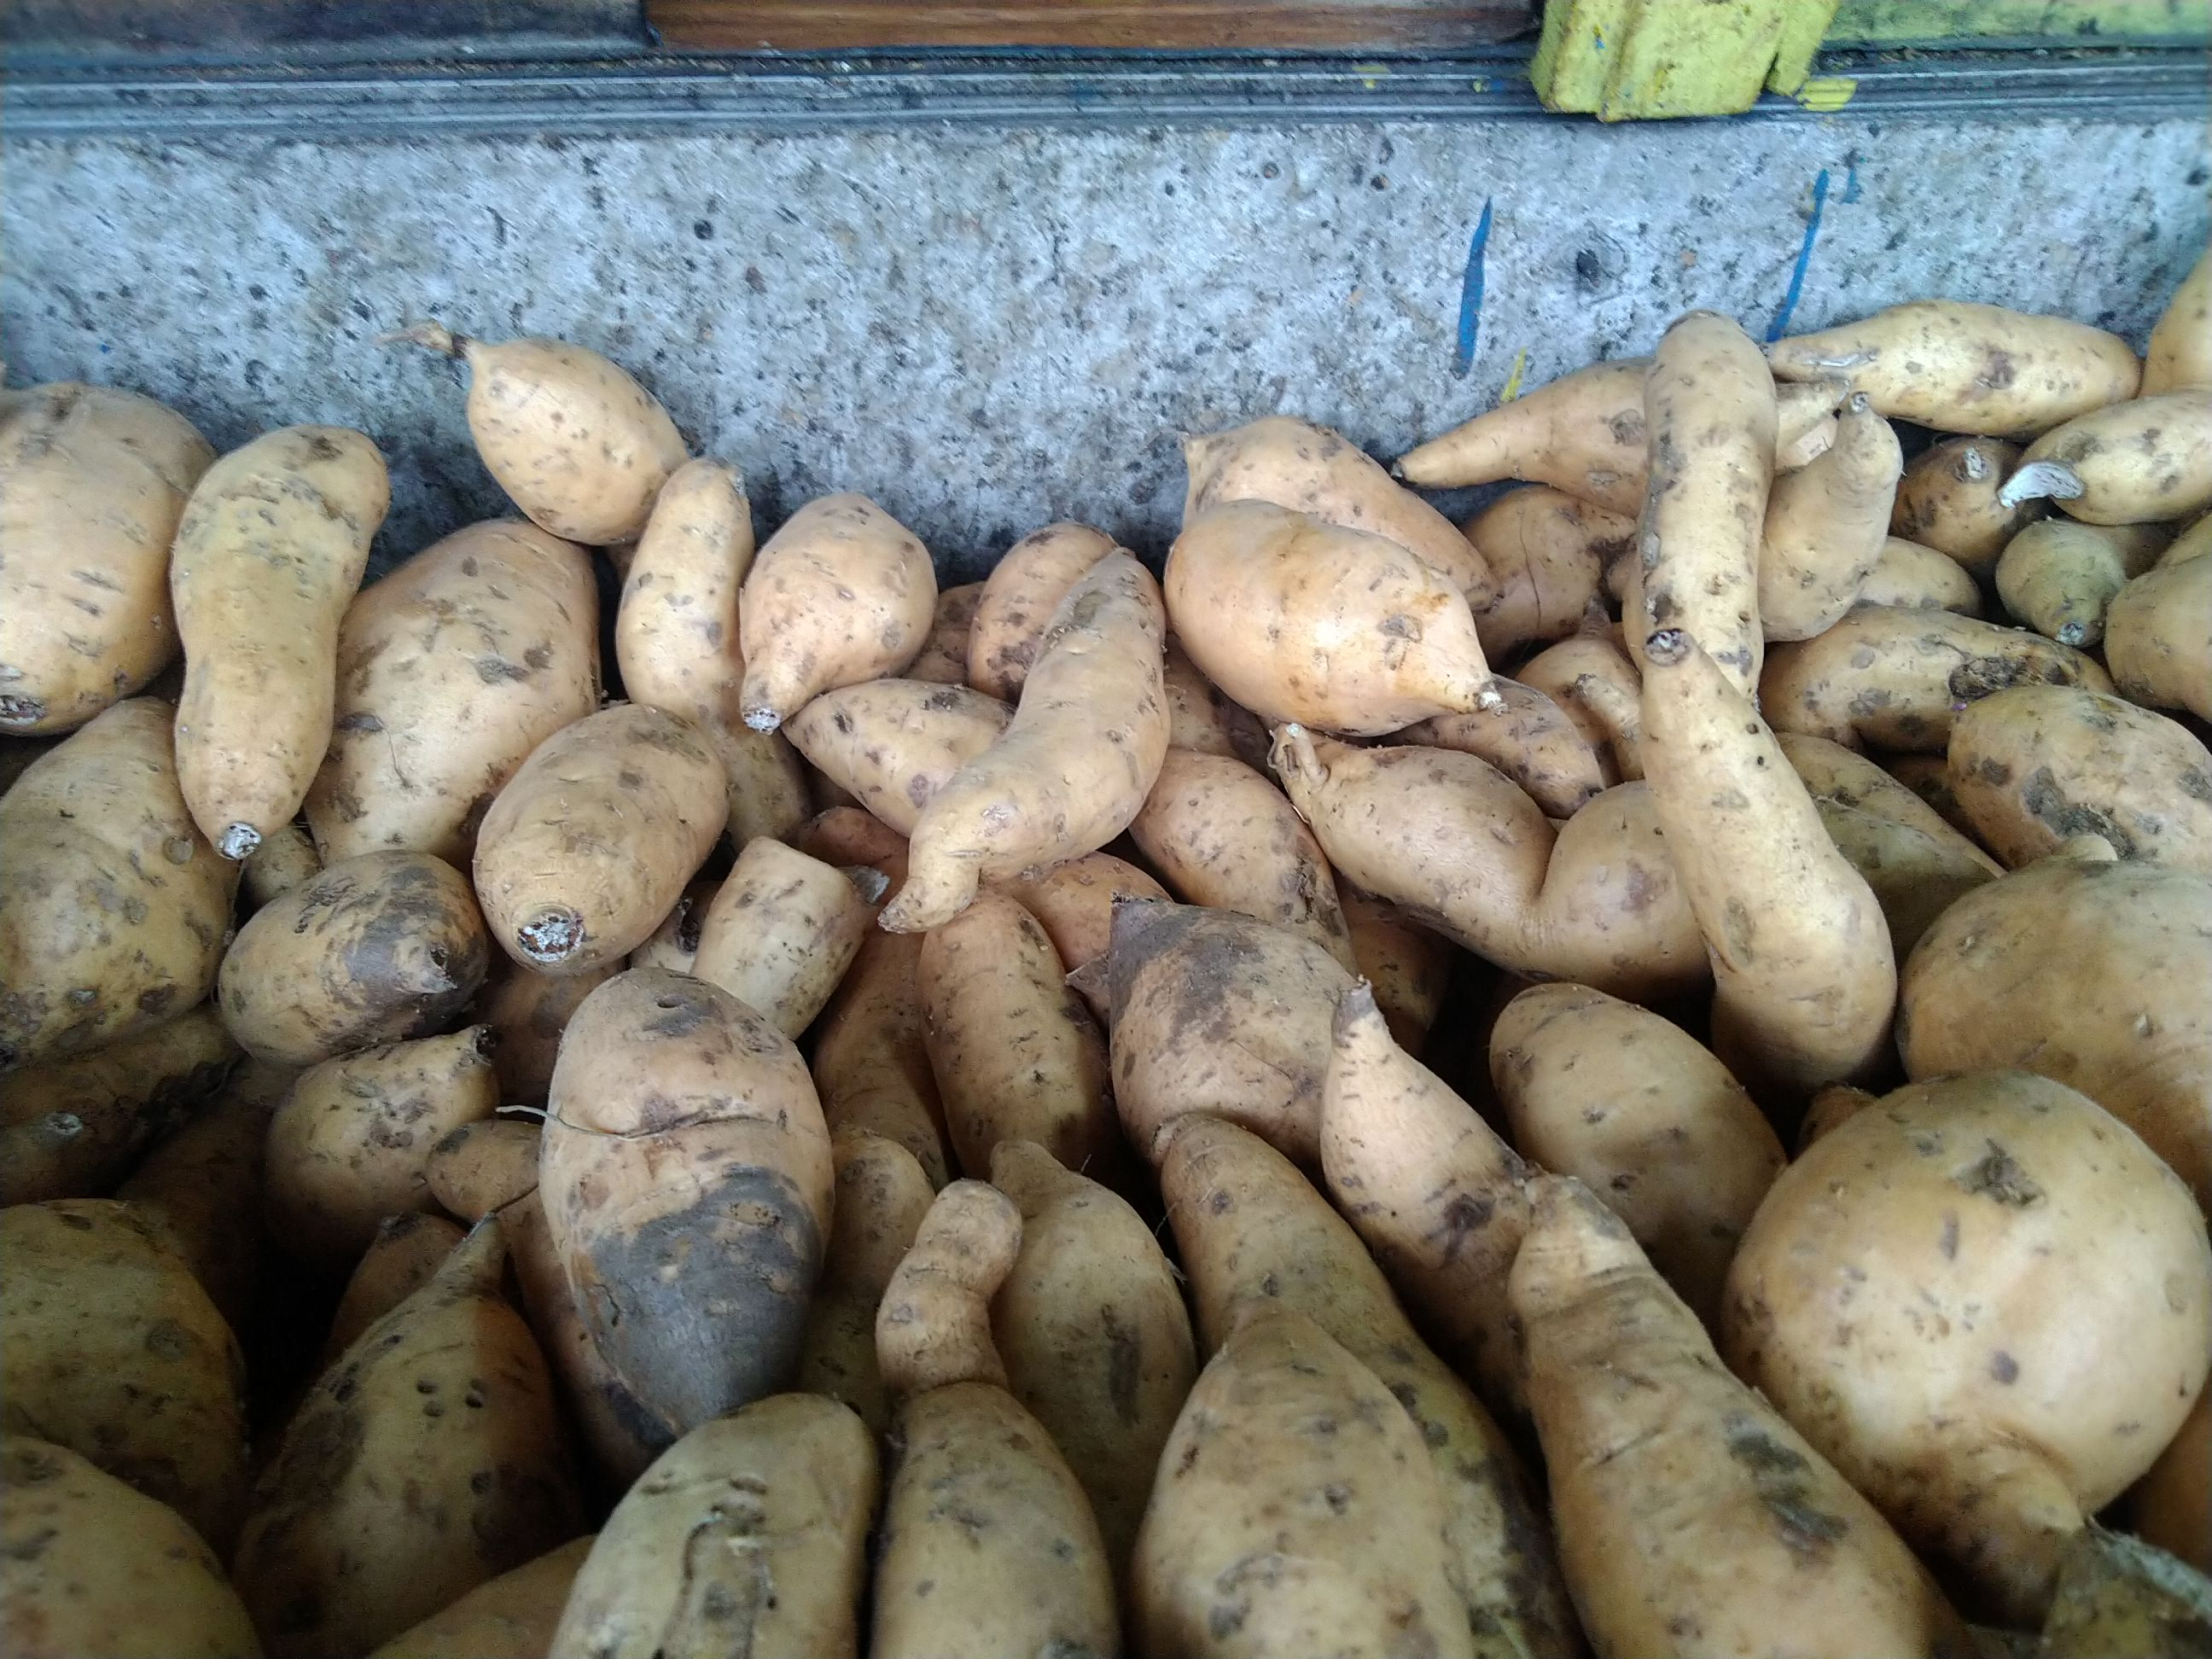ubi cilembu: (16, 333, 2212, 1650), (1695, 1053, 2203, 1615), (1125, 1098, 1531, 1659), (519, 953, 841, 1445), (1625, 634, 1958, 1086), (878, 551, 1195, 953), (164, 401, 383, 870), (533, 1371, 866, 1659), (1141, 491, 1515, 744), (456, 683, 759, 972), (913, 871, 1109, 1206), (444, 308, 702, 552), (1764, 295, 2153, 448)
